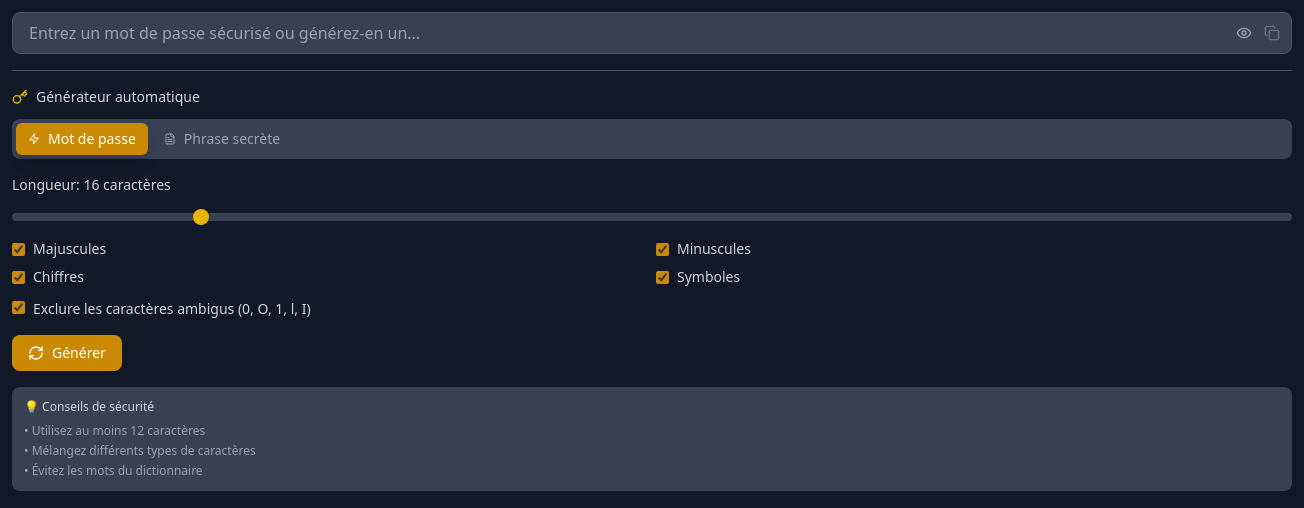
Test case: PasswordGeneratorComponent › should adjust password length with slider
Set the slider showing "16" to "20" at (291, 217), box [12,213,1292,221]
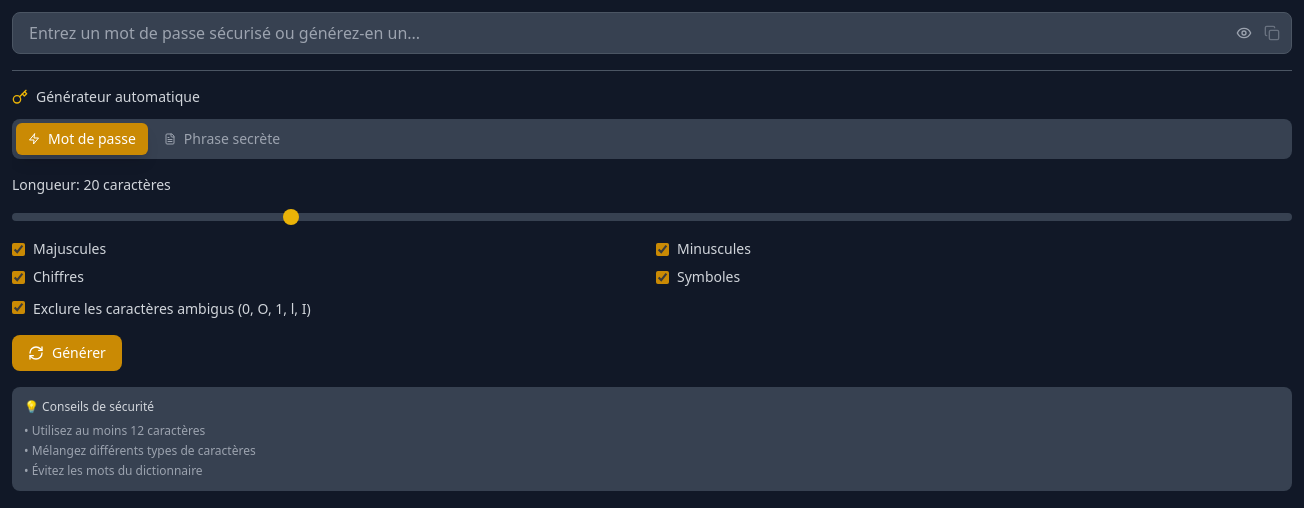
Check: the text "Longueur: 20 caractères" is shown, box [12,175,171,194]
